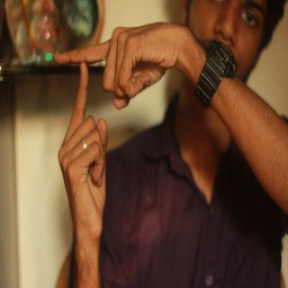T: (50, 28, 122, 159)
